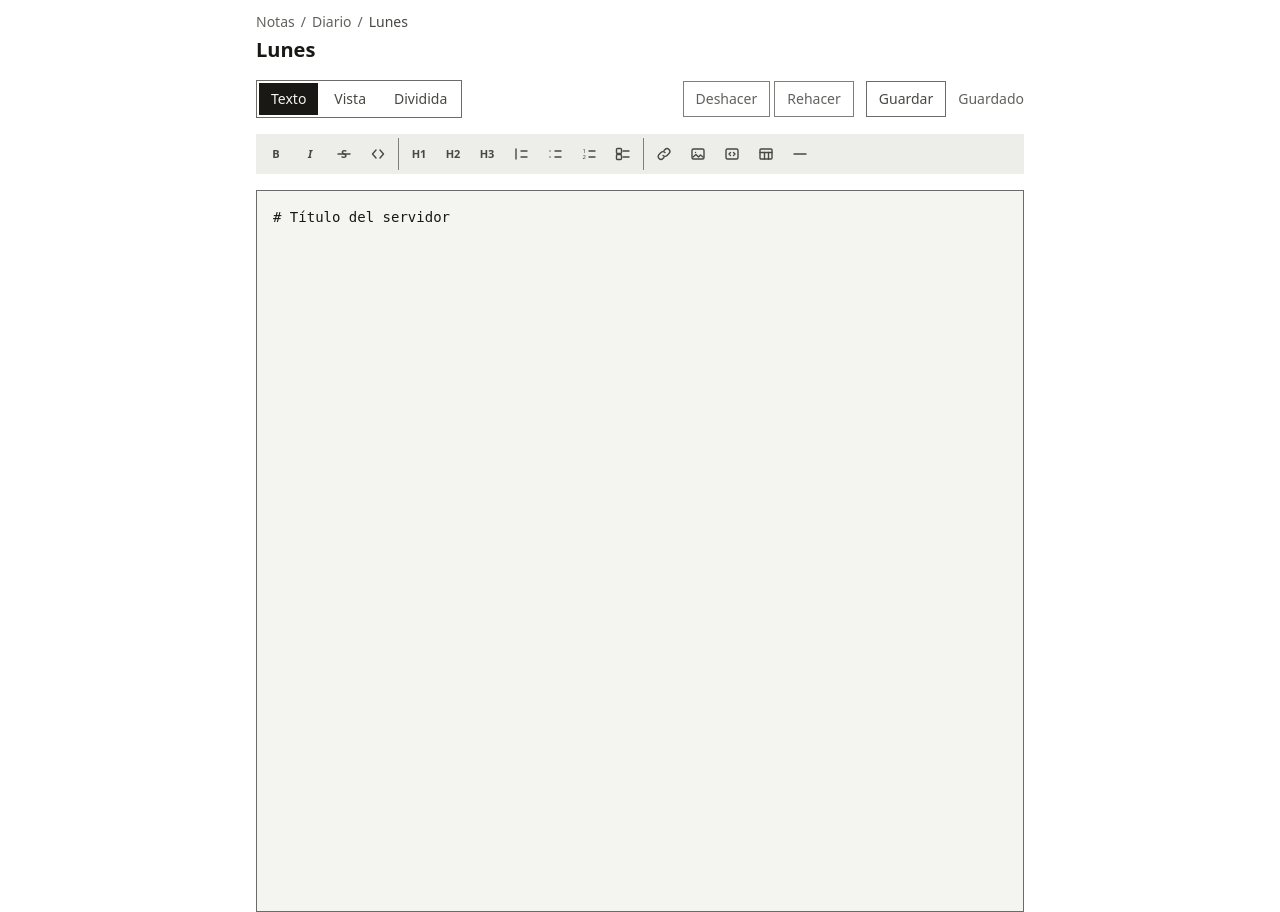
Test case: DocumentEditorPage — vista dividida (spec 005: AC-14 a AC-18, AC-25) › en modo dividido el texto y la vista previa están los dos, en UN solo panel (AC-15)
The width and height of the screenshot is (1280, 912).
Click the tab "Dividida": [421, 99] box [382,83,459,115]
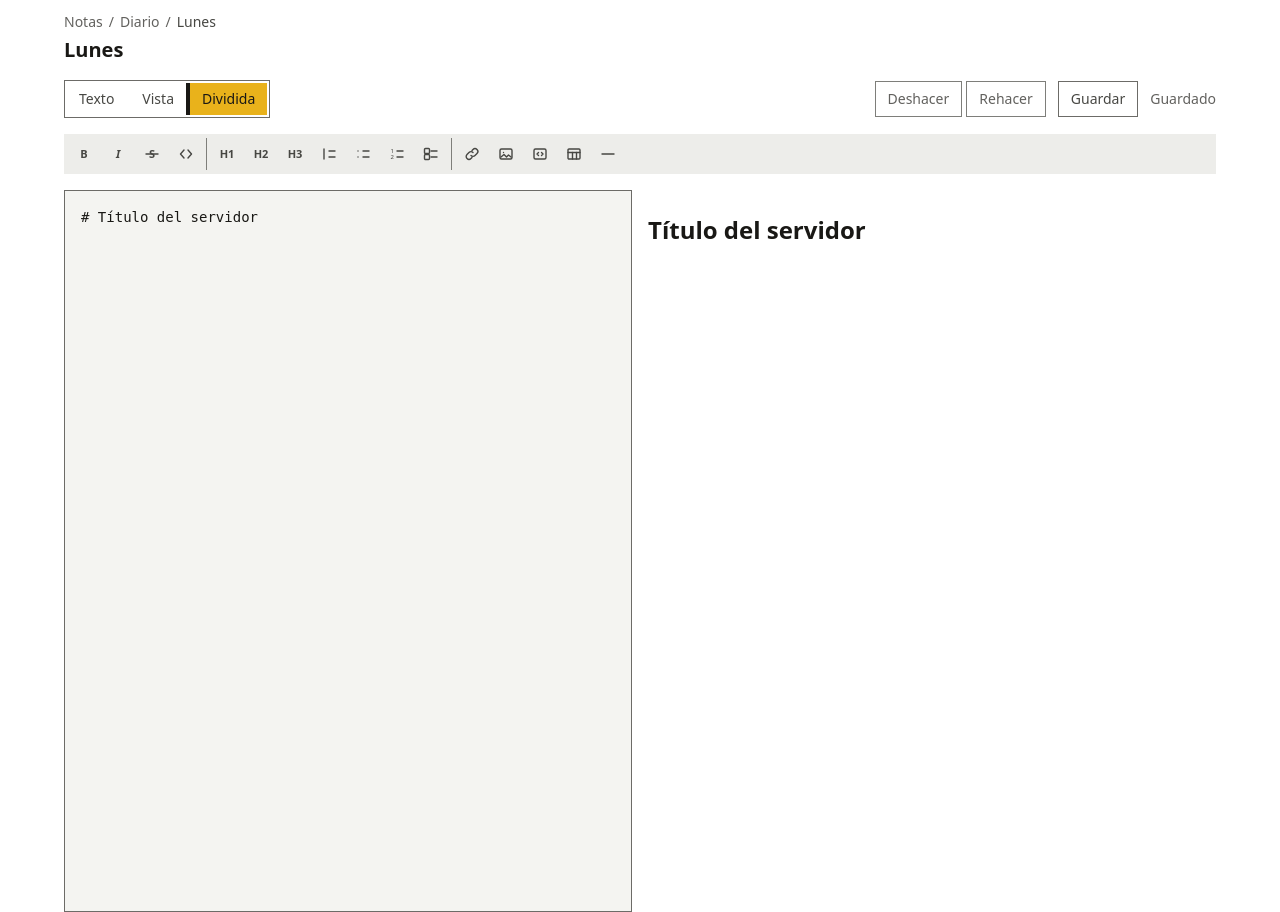
Expected: the number of panels is 1, [64,190,866,911]
